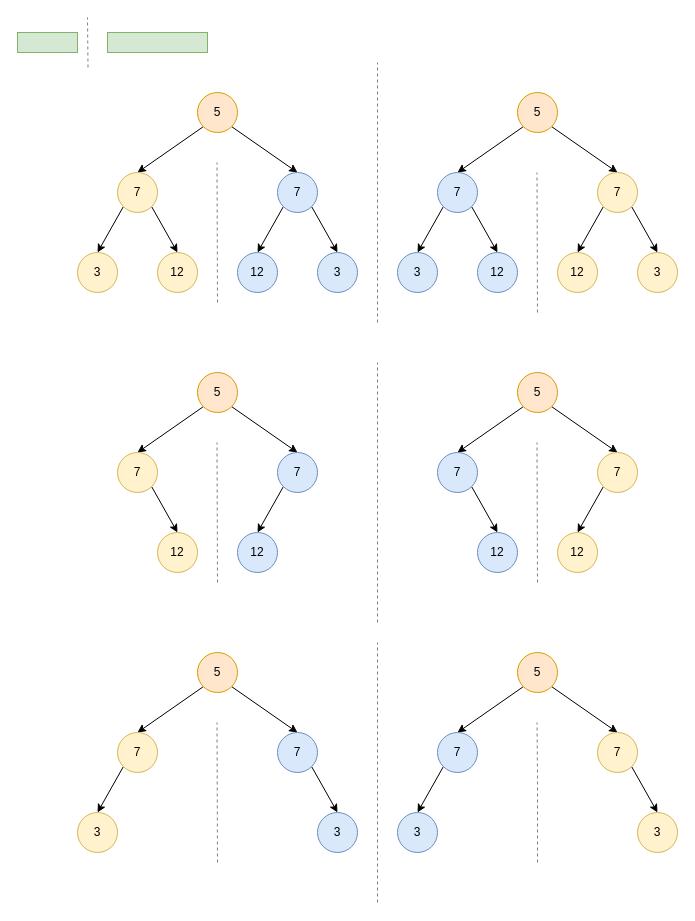
The diagram is 695 pixels wide and 921 high, and some of its shapes have lost their labels. The shapes that lost their labels are listed below. From the top down, each one's centre as x and y in pixels, then its label:
At point (47, 42): "Original".
At point (157, 42): "Mirror Reflection".
